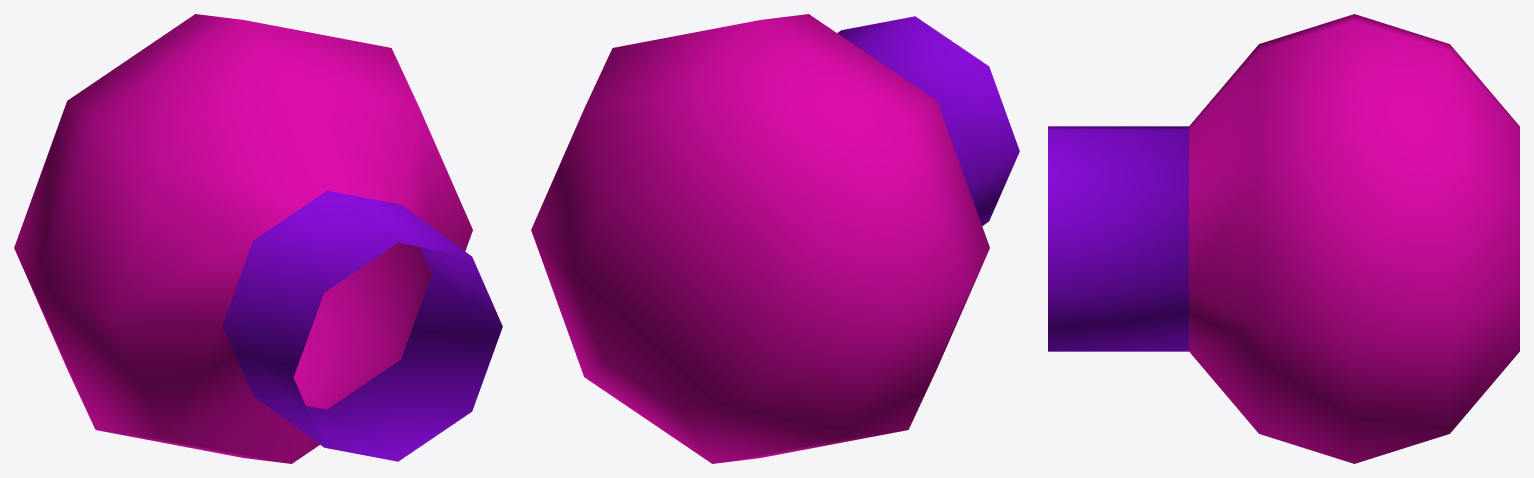
The model's file is VC_SteeringWheel_02_Handle.fbx.
The picture shows the model from 3 angles, left to right: view 1: azimuth 30°, elevation 25°; view 2: azimuth 150°, elevation 25°; view 3: azimuth 270°, elevation 25°; orthographic projection.
Visible parts, largest first — view 1: VC_SteeringWheel_02_Handle; view 2: VC_SteeringWheel_02_Handle; view 3: VC_SteeringWheel_02_Handle.
Part boxes in pixels (x1=…): VC_SteeringWheel_02_Handle: x1=14, y1=14, x2=502, y2=463; VC_SteeringWheel_02_Handle: x1=531, y1=14, x2=1019, y2=463; VC_SteeringWheel_02_Handle: x1=1048, y1=14, x2=1519, y2=463.
Size of the model in its own units: 0.04 by 0.04 by 0.0394.
